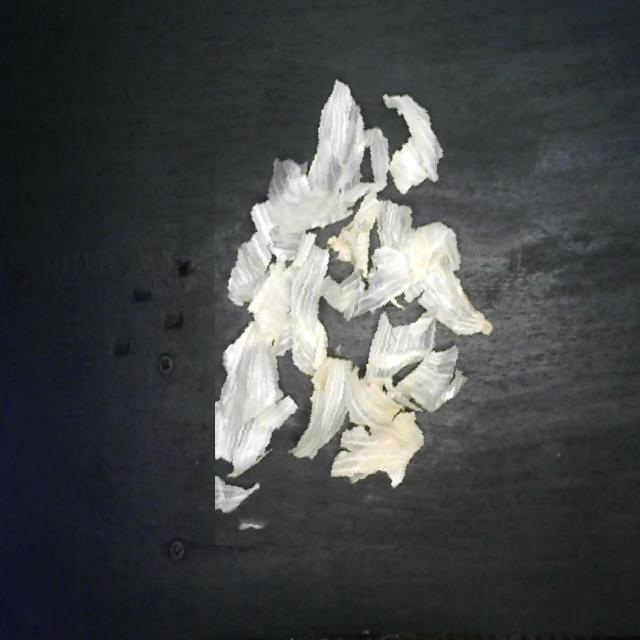biodegradable: (215, 66, 529, 545)
